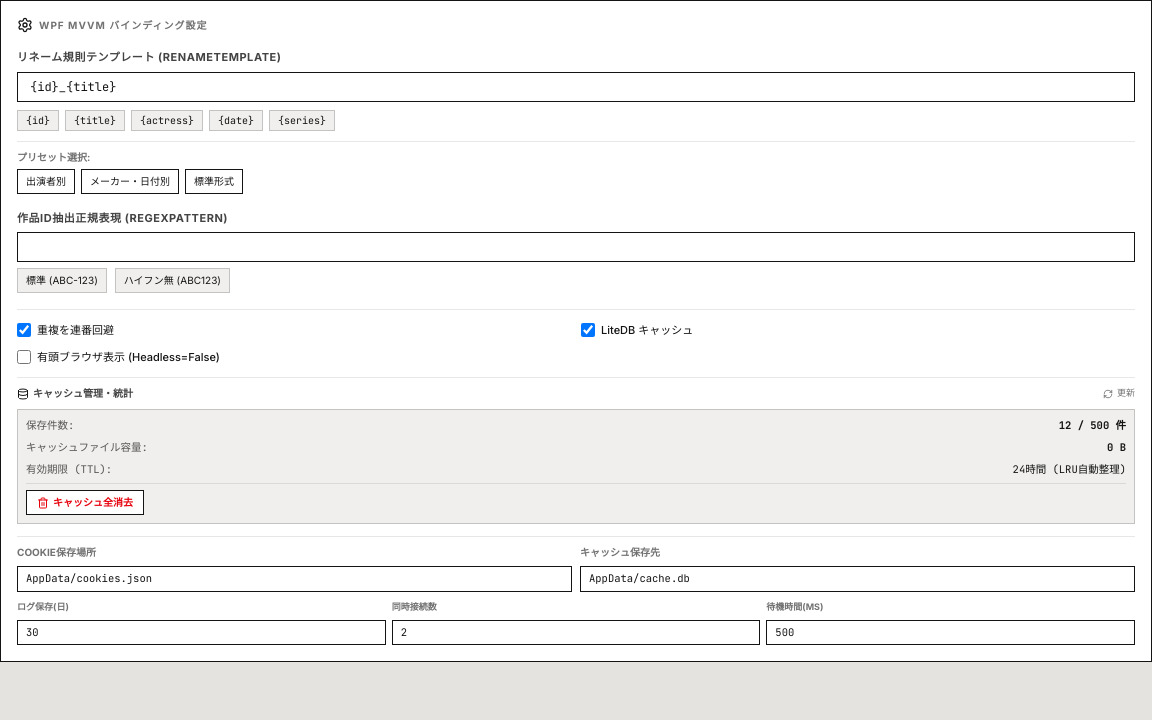
Scenario: SettingsPanel Component › renders 0 bytes as 0 B and clears the cache
Expected: the text "キャッシュ管理・統計" is shown, 17,386 -> 133,401
Expected: the text "キャッシュファイル容量:" is shown, 26,440 -> 148,456
Click "キャッシュ全消去" to show confirmation dialog
Click the button "キャッシュ全消去".
click(85, 503)  # box 26,490 -> 144,515
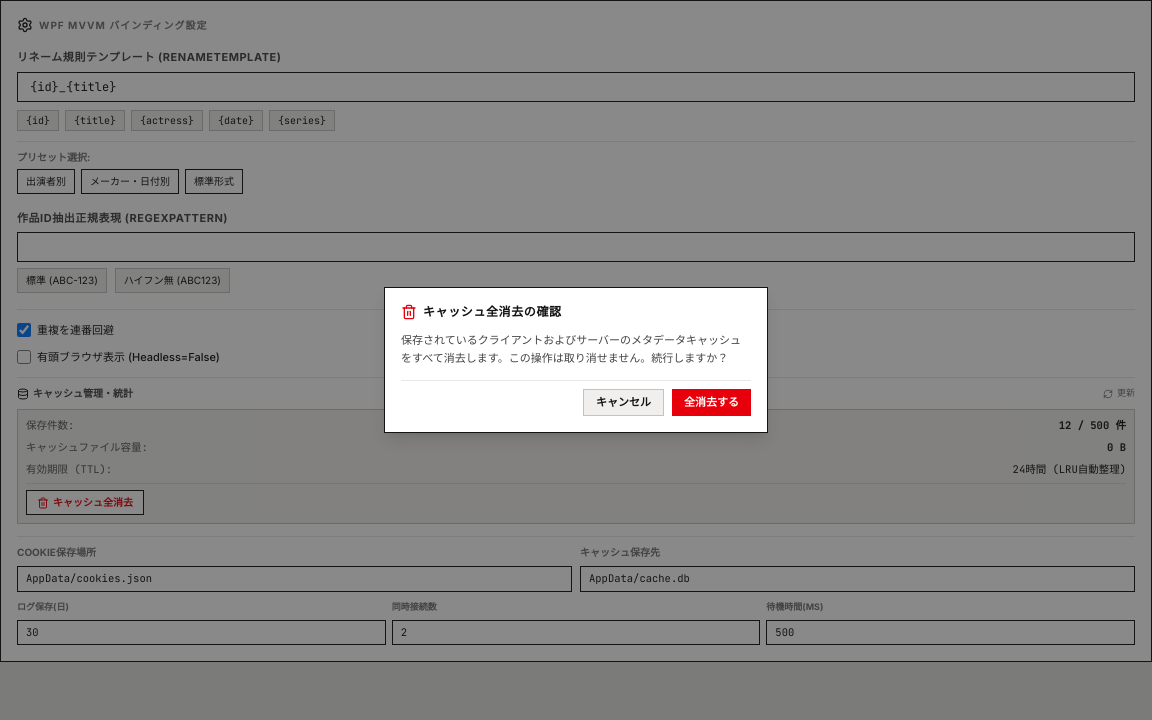
Expected: the heading "キャッシュ全消去の確認" is shown, 401,304 -> 562,320
Confirm clearing
Click the button "全消去する".
click(712, 402)  # box 672,389 -> 751,416
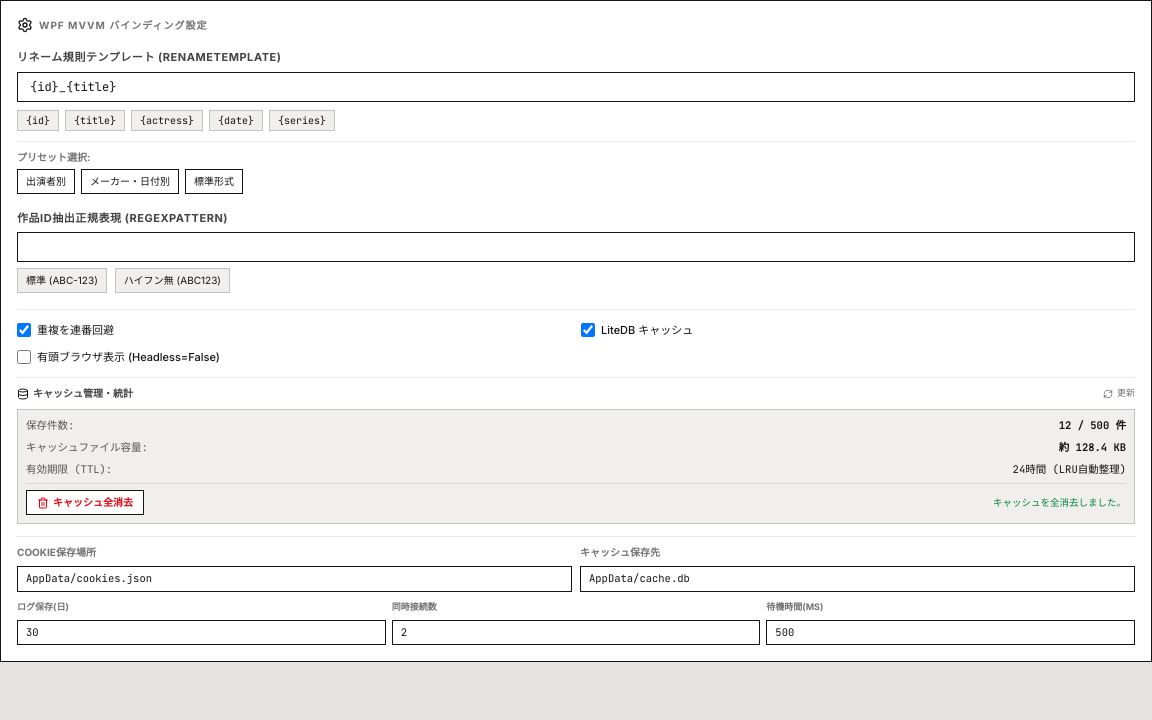
Expected: the text "キャッシュを全消去しました。" is shown, 993,496 -> 1126,510
